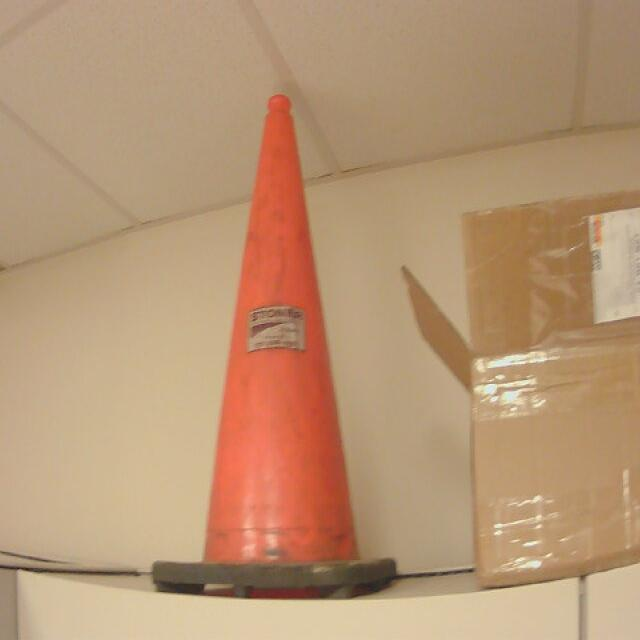traffic cone: (151, 96, 398, 602)
